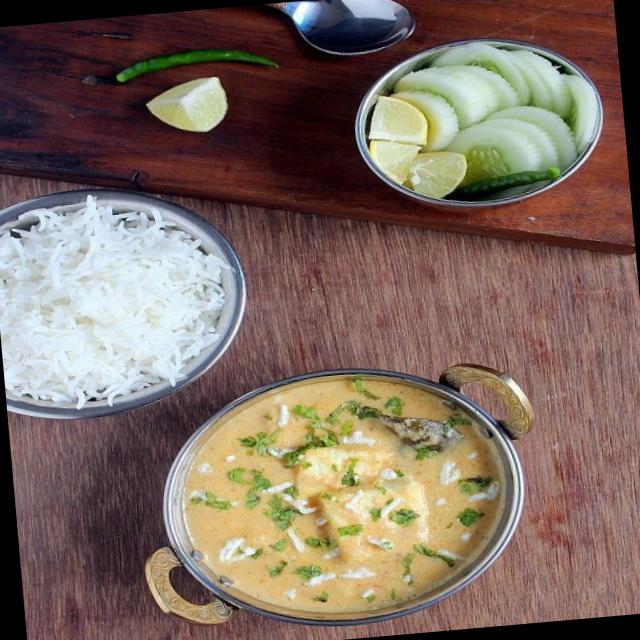ShahiPaneer: (171, 358, 528, 632)
